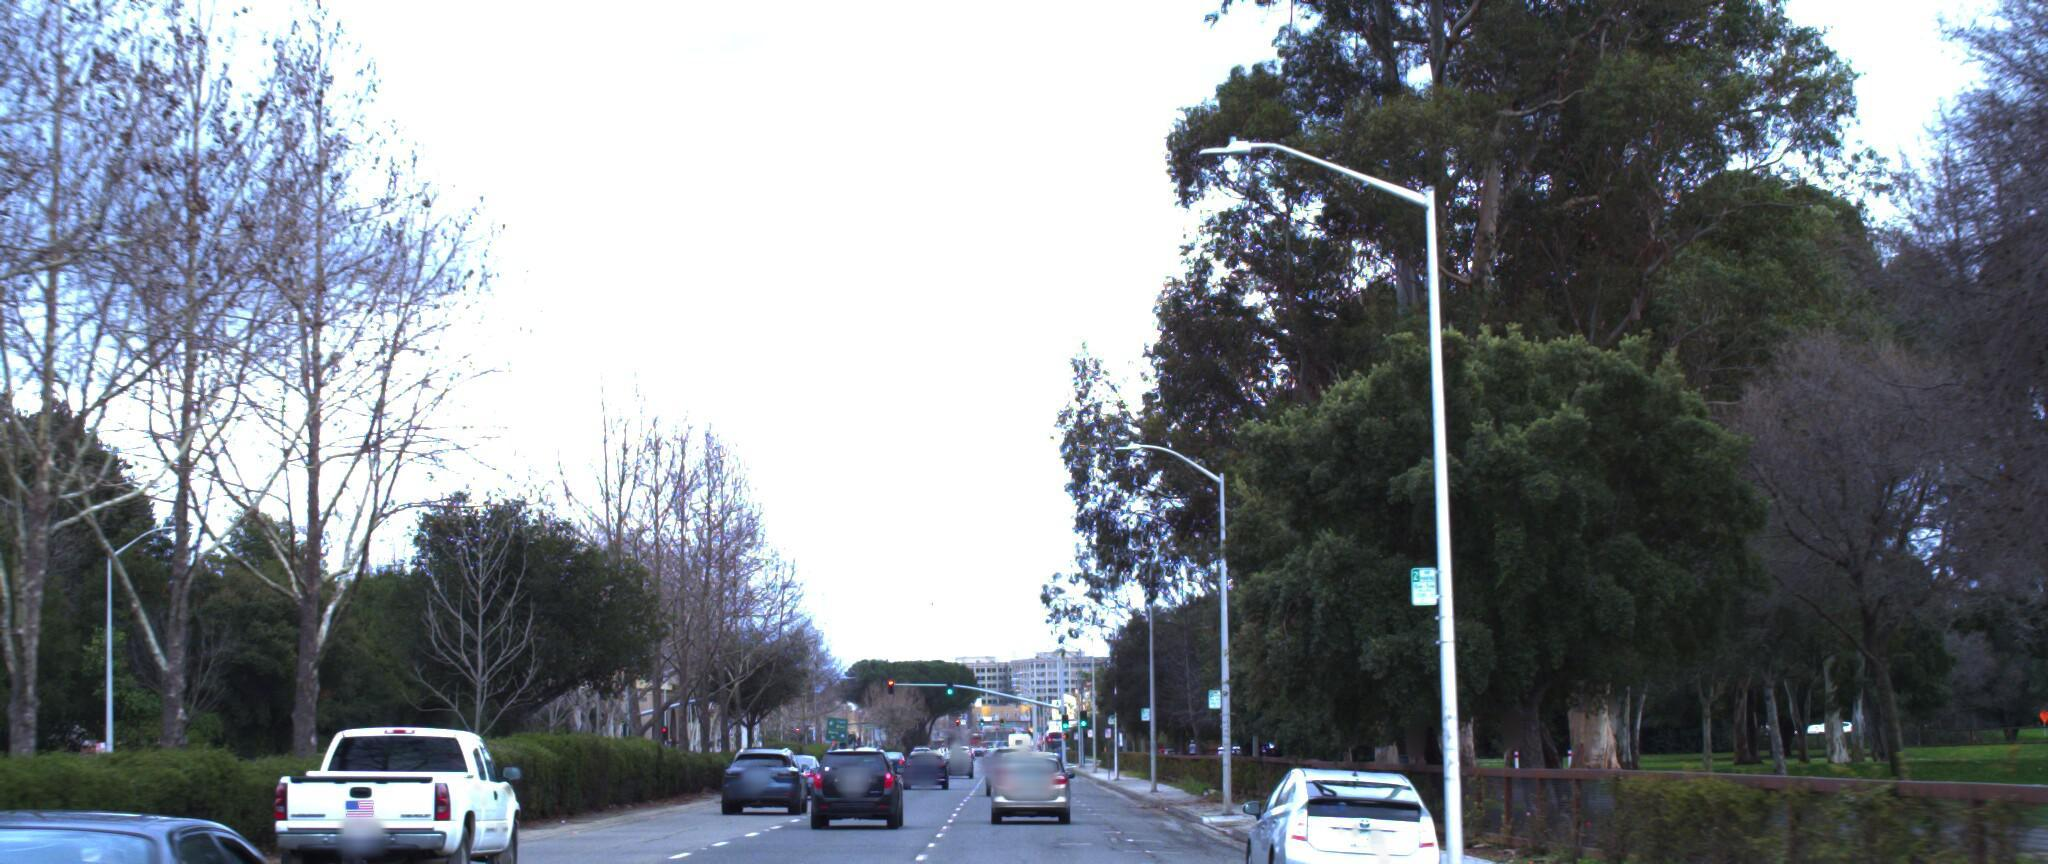car: (260, 718, 536, 864), (0, 786, 427, 864), (1243, 767, 1443, 864), (812, 743, 904, 830), (993, 753, 1076, 829), (728, 753, 815, 825)
